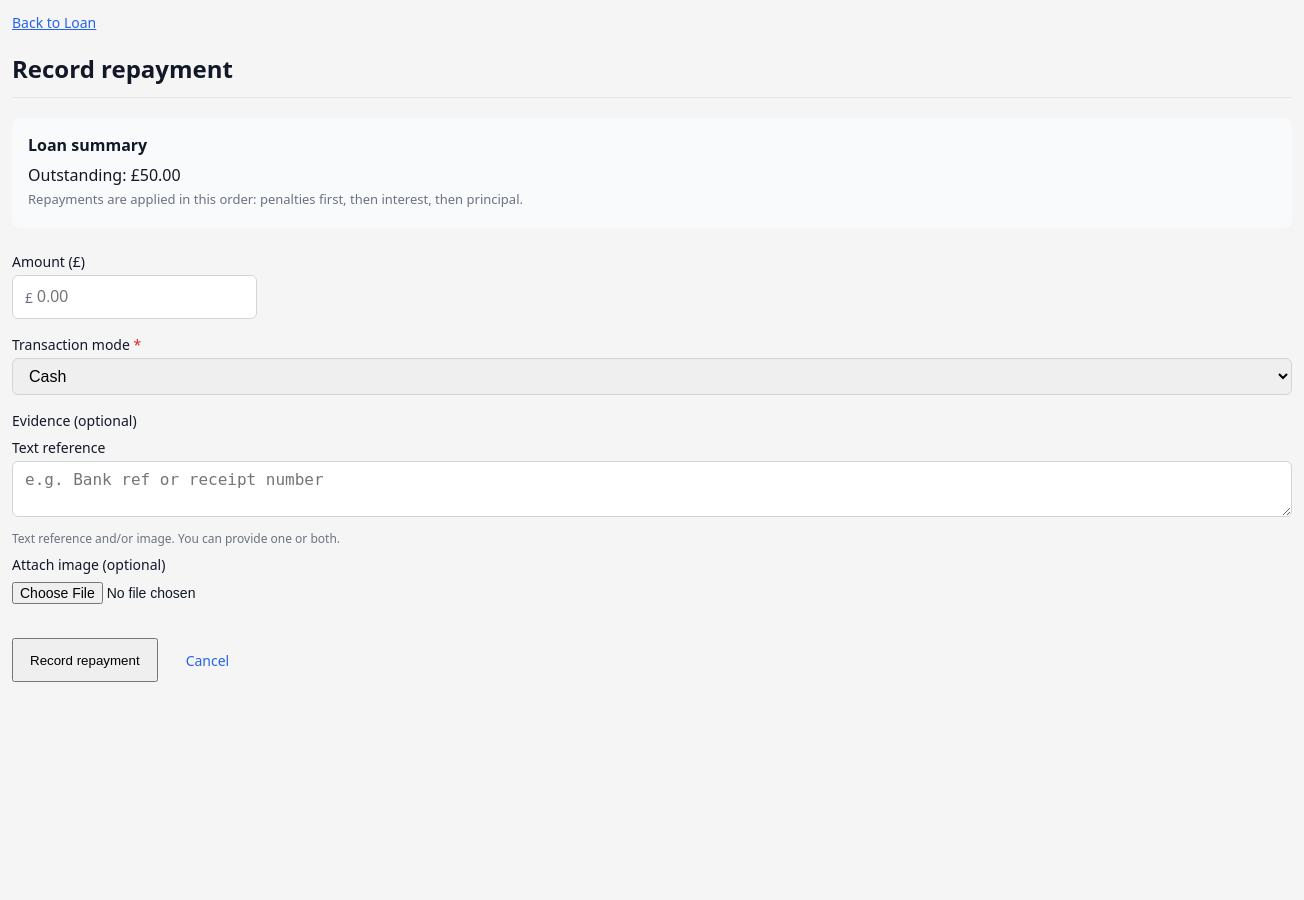
Test: Treasurer Loan Repayment › shows already recorded message when duplicate idempotency response
The width and height of the screenshot is (1304, 900).
Type "5.00" into the field labelled "Amount (£)" at (140, 297), box top-left (37, 280), bottom-right (244, 314)
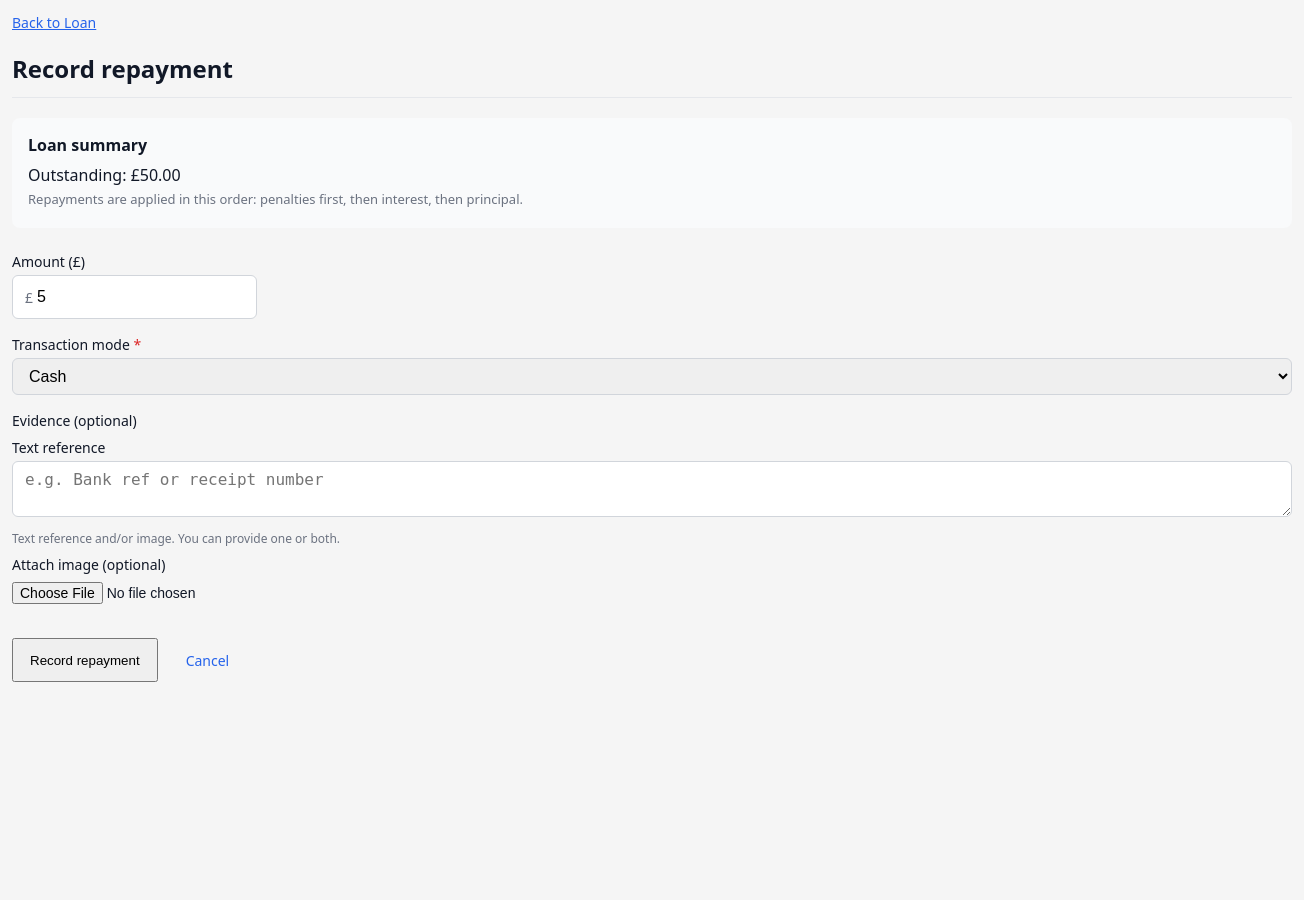
Click the button "Record repayment" at (85, 660), box top-left (12, 638), bottom-right (158, 682)
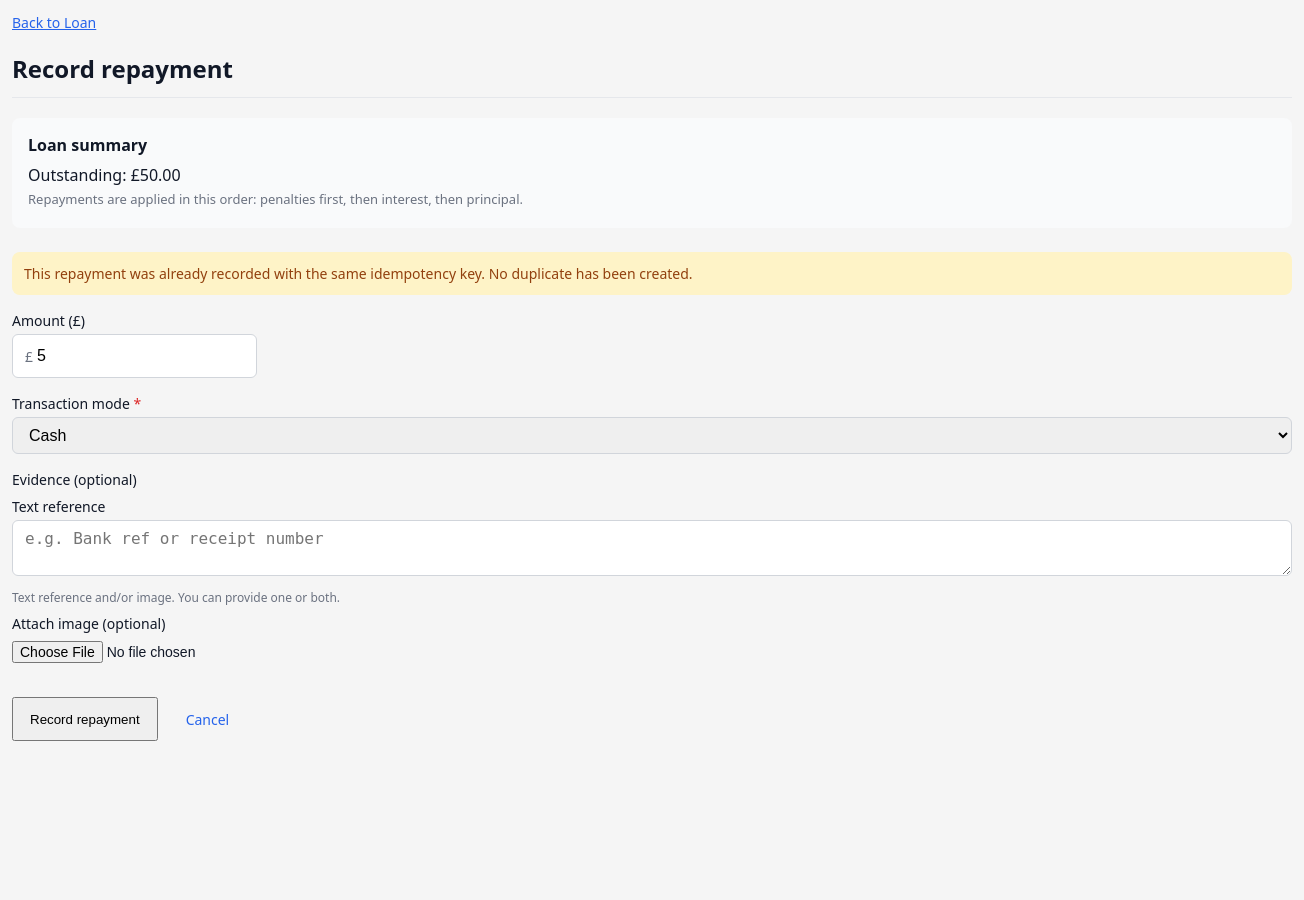
Expected: the text "already recorded" is shown, top-left (24, 264), bottom-right (693, 283)
